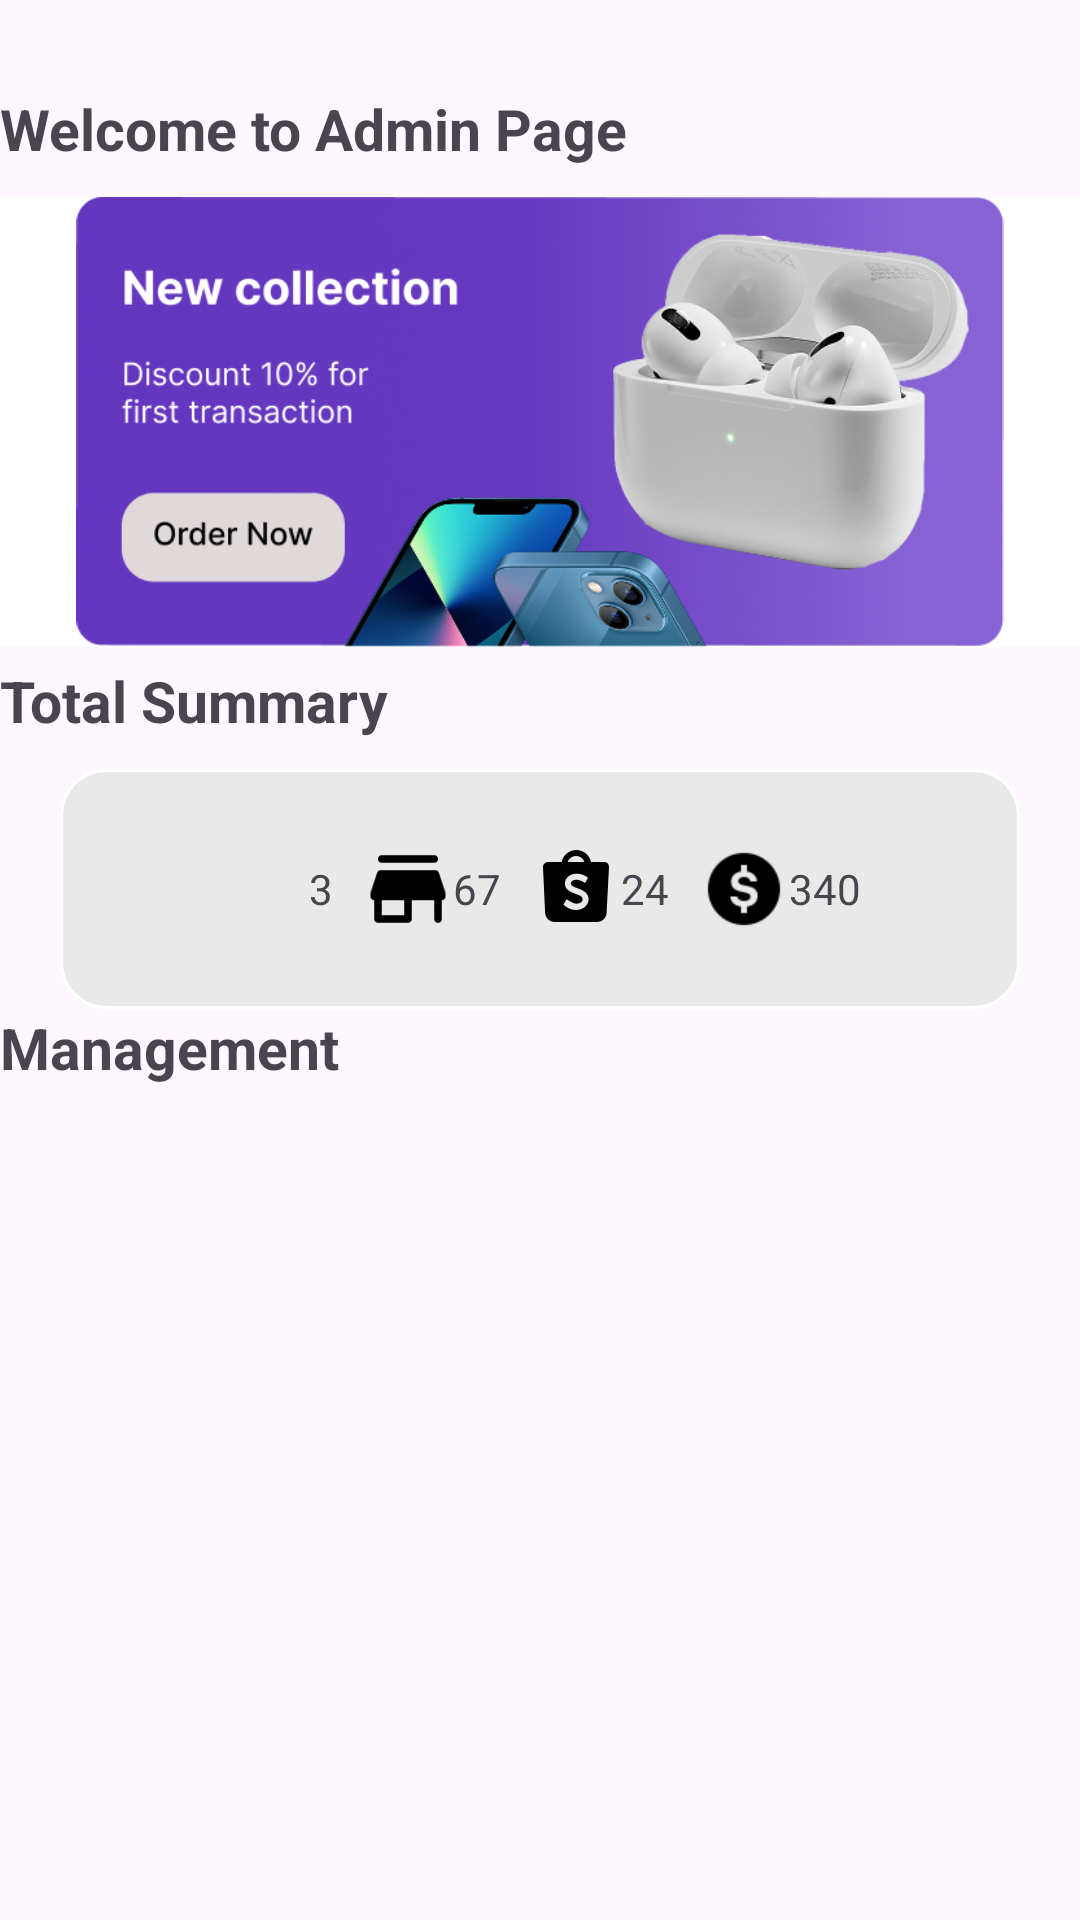

Icon click points for this 1080x1920 phone screenshot, format (x,y):
total price: (744,889)
total pro: (408,889)
